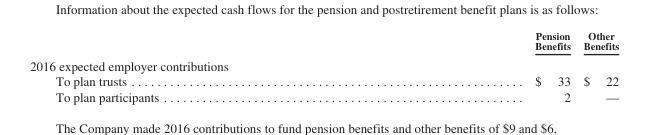table: (29, 29, 618, 103)
table column: (29, 29, 346, 103), (346, 29, 576, 103), (576, 29, 618, 103)
table column header: (29, 29, 618, 54)
table projected row header: (29, 54, 618, 73)
table row: (29, 29, 618, 54), (29, 54, 618, 73), (29, 73, 618, 88), (29, 88, 618, 103)
